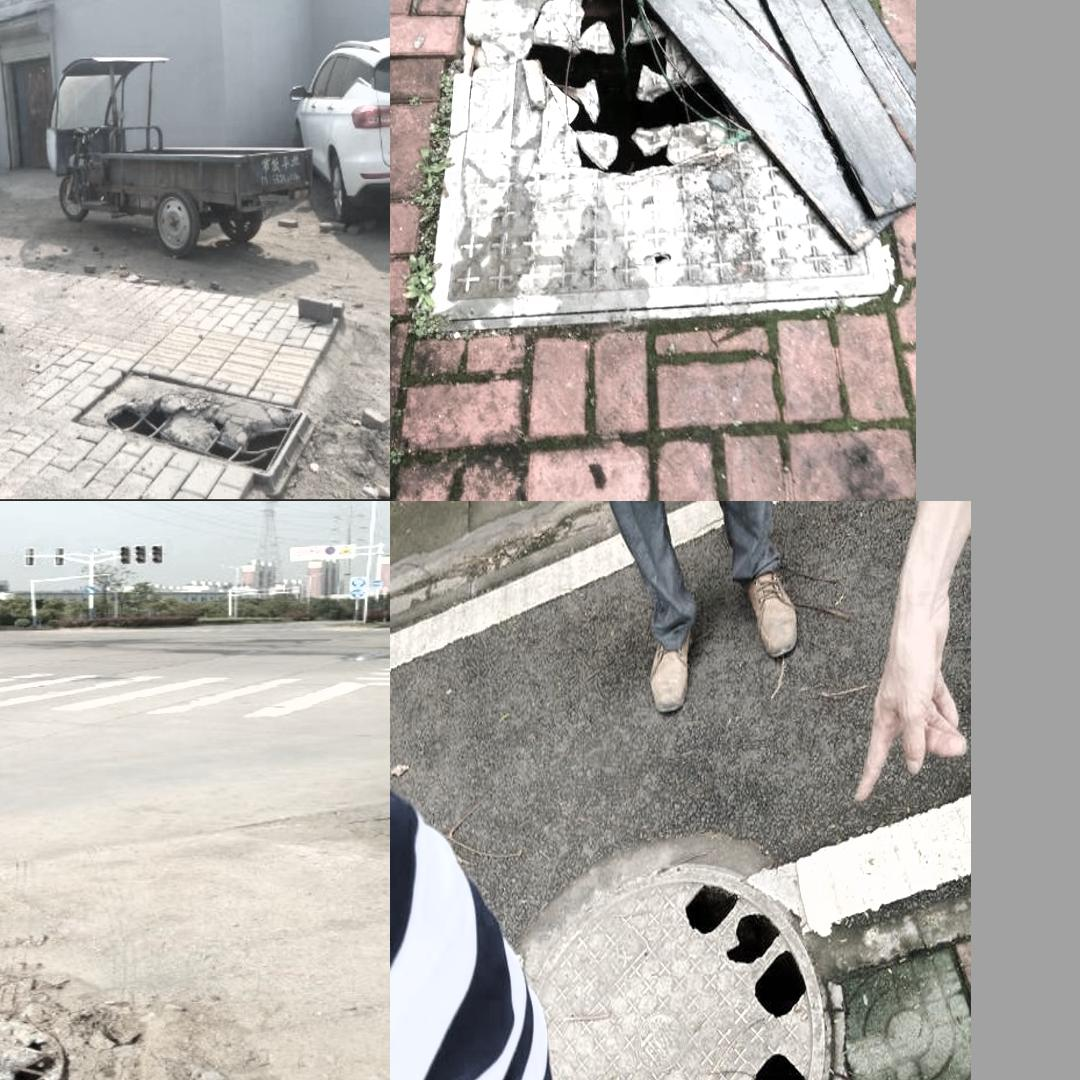broke: (428, 0, 904, 339), (470, 832, 847, 1080), (71, 368, 312, 494), (0, 1009, 67, 1080)
